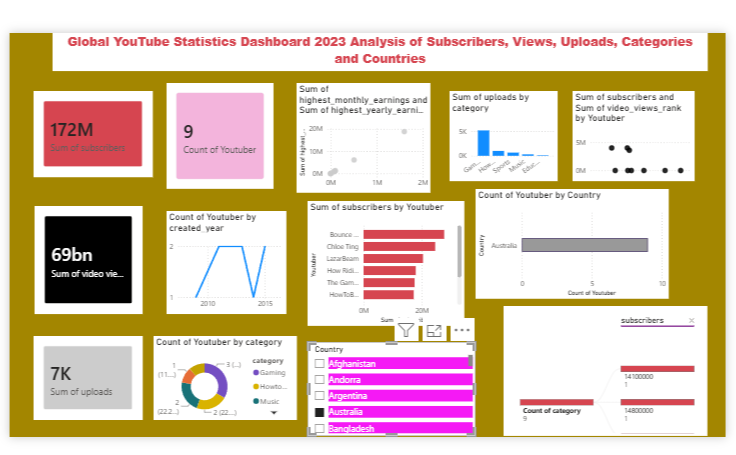

The dashboard page shown, as its layout file describes it:
{"tool":"powerbi","page":{"name":"Page 1","canvas":[1280,720],"ordinal":0},"visuals":[{"type":"cardVisual","fields":{"Data":["Sum(Global YouTube Statistics.subscribers)"]},"box":[42.9,103.6,212.5,153.6],"z":0},{"type":"cardVisual","fields":{"Data":["Sum(Global YouTube Statistics.video views)"]},"box":[44.6,308.9,192.9,192.9],"z":1000},{"type":"cardVisual","fields":{"Data":["Sum(Global YouTube Statistics.uploads)"]},"box":[42.9,541.1,194.6,150],"z":2000},{"type":"cardVisual","fields":{"Data":["Count(Global YouTube Statistics.Youtuber)"]},"box":[280.4,89.3,191.1,189.3],"z":3000},{"type":"clusteredBarChart","fields":{"Category":["Global YouTube Statistics.Youtuber"],"Y":["Sum(Global YouTube Statistics.subscribers)"]},"box":[532.1,300,280.4,223.2],"z":4000},{"type":"decompositionTreeVisual","fields":{"Analyze":["CountNonNull(Global YouTube Statistics.category)"],"ExplainBy":["Global YouTube Statistics.subscribers"]},"box":[882.1,487.5,364.3,232.1],"z":5000},{"type":"clusteredBarChart","fields":{"Y":["CountNonNull(Global YouTube Statistics.Youtuber)"],"Category":["Global YouTube Statistics.Country"]},"box":[832.1,278.6,344.6,196.4],"z":6000},{"type":"donutChart","fields":{"Category":["Global YouTube Statistics.category"],"Y":["CountNonNull(Global YouTube Statistics.Youtuber)"]},"box":[257.1,541.1,256,150],"z":7000},{"type":"scatterChart","fields":{"X":["Sum(Global YouTube Statistics.subscribers)"],"Y":["Sum(Global YouTube Statistics.video_views_rank)"],"Category":["Global YouTube Statistics.Youtuber"]},"box":[1005.4,103.6,217.9,160.7],"z":8000},{"type":"scatterChart","fields":{"X":["Sum(Global YouTube Statistics.highest_monthly_earnings)"],"Y":["Sum(Global YouTube Statistics.highest_yearly_earnings)"],"Category":["Global YouTube Statistics.Youtuber"]},"box":[512.5,89.3,239.3,196.4],"z":9000},{"type":"clusteredColumnChart","fields":{"Y":["Sum(Global YouTube Statistics.uploads)"],"Category":["Global YouTube Statistics.category"]},"box":[785.7,103.6,192.9,160.7],"z":10000},{"type":"lineChart","fields":{"Category":["Global YouTube Statistics.created_year"],"Y":["CountNonNull(Global YouTube Statistics.Youtuber)"]},"box":[280.4,317.9,214.3,183.9],"z":11000},{"type":"slicer","fields":{"Values":["Global YouTube Statistics.Country"]},"box":[532.1,551.8,300,167.9],"z":12000},{"type":"textbox","title":"Global YouTube Statistics Dashboard 2023 Analysis of Subscribers, Views, Uploads, Categories and Countries","box":[76.8,0,1169.6,67.9],"z":13000}]}

Visuals, with their boxes in screenshot pixels (x1, y1, x2, y2):
cardVisual - Sum(Global YouTube Statistics.subscribers): [x1=30, y1=87, x2=151, y2=175]
cardVisual - Sum(Global YouTube Statistics.video views): [x1=31, y1=204, x2=140, y2=313]
cardVisual - Sum(Global YouTube Statistics.uploads): [x1=30, y1=336, x2=140, y2=421]
cardVisual - Count(Global YouTube Statistics.Youtuber): [x1=165, y1=79, x2=273, y2=187]
clusteredBarChart - Global YouTube Statistics.Youtuber x Sum(Global YouTube Statistics.subscribers): [x1=307, y1=199, x2=466, y2=325]
decompositionTreeVisual - CountNonNull(Global YouTube Statistics.category) x Global YouTube Statistics.subscribers: [x1=506, y1=305, x2=713, y2=437]
clusteredBarChart - CountNonNull(Global YouTube Statistics.Youtuber) x Global YouTube Statistics.Country: [x1=478, y1=187, x2=673, y2=298]
donutChart - Global YouTube Statistics.category x CountNonNull(Global YouTube Statistics.Youtuber): [x1=152, y1=336, x2=297, y2=421]
scatterChart - Sum(Global YouTube Statistics.subscribers) x Sum(Global YouTube Statistics.video_views_rank): [x1=576, y1=87, x2=699, y2=179]
scatterChart - Sum(Global YouTube Statistics.highest_monthly_earnings) x Sum(Global YouTube Statistics.highest_yearly_earnings): [x1=296, y1=79, x2=432, y2=191]
clusteredColumnChart - Sum(Global YouTube Statistics.uploads) x Global YouTube Statistics.category: [x1=451, y1=87, x2=561, y2=179]
lineChart - Global YouTube Statistics.created_year x CountNonNull(Global YouTube Statistics.Youtuber): [x1=165, y1=209, x2=286, y2=313]
slicer - Global YouTube Statistics.Country: [x1=307, y1=342, x2=478, y2=437]
"Global YouTube Statistics Dashboard 2023 Analysis of Subscribers, Views, Uploads, Categories and Countries" textbox: [x1=49, y1=29, x2=713, y2=67]
